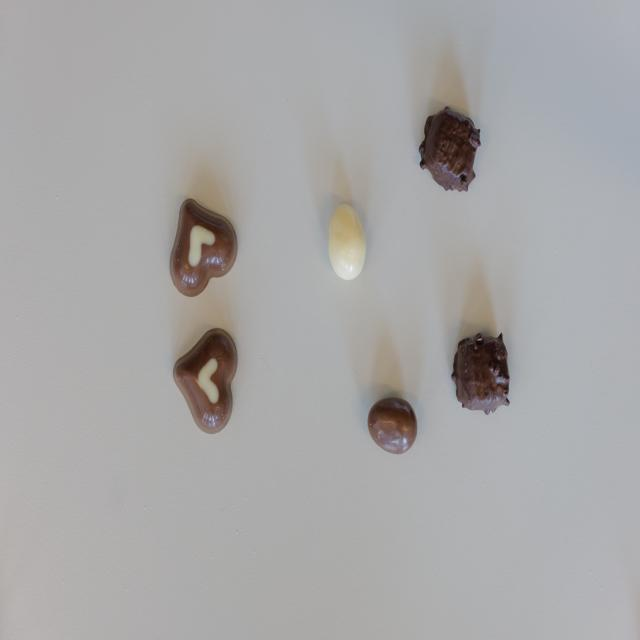Jelly_Milk: (368, 398, 418, 455)
Jelly_White: (328, 202, 367, 280)
Passion_au_lait: (172, 326, 239, 436), (170, 197, 238, 295)
Tentation_noir: (420, 106, 480, 194), (450, 332, 510, 416)
